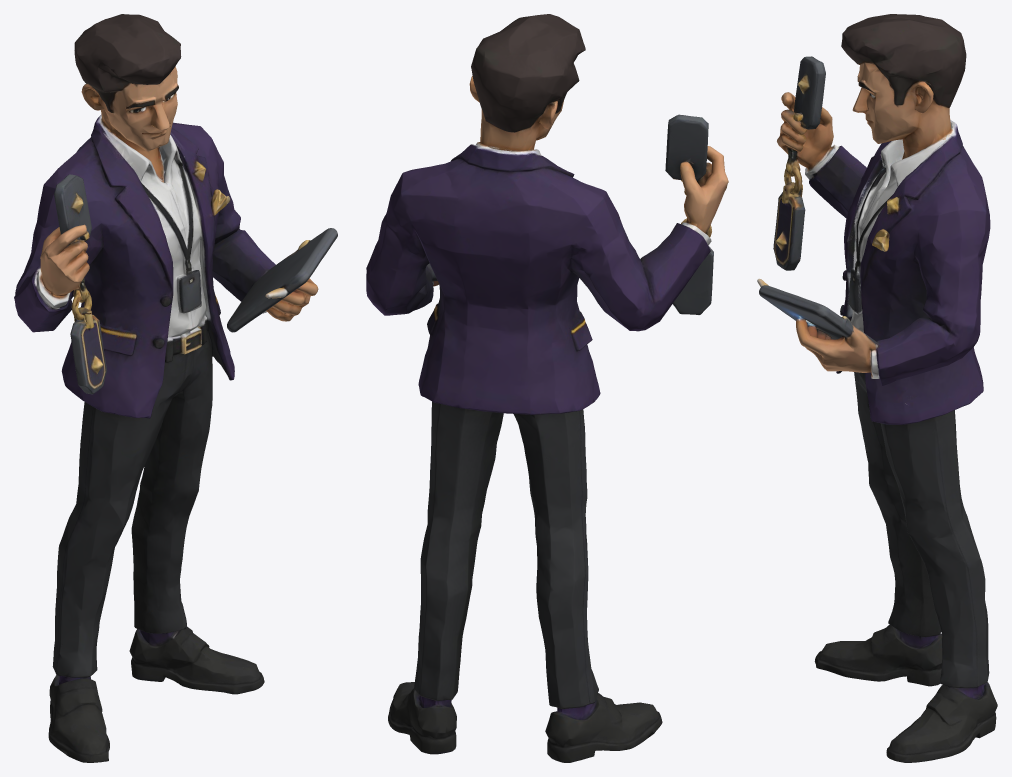
Rendered from premium_car_showroom_character_1k_real.glb.
3 views of the same model, side by side, from view 1: azimuth 30°, elevation 25°; view 2: azimuth 150°, elevation 25°; view 3: azimuth 270°, elevation 25° (orthographic). The views are drawn at different scales.
Visible parts, largest first — view 1: tripo_node_c988092d-569d-4750-ab94-eb6157a114a9; view 2: tripo_node_c988092d-569d-4750-ab94-eb6157a114a9; view 3: tripo_node_c988092d-569d-4750-ab94-eb6157a114a9.
Boxes of the visible parts, x1,y1,x2,y2 form: tripo_node_c988092d-569d-4750-ab94-eb6157a114a9: [14, 14, 337, 762]; tripo_node_c988092d-569d-4750-ab94-eb6157a114a9: [366, 14, 728, 762]; tripo_node_c988092d-569d-4750-ab94-eb6157a114a9: [757, 14, 997, 762].
Size of the model in its own units: 0.4593 by 1 by 0.3177.
Materials: 1 (1 with a texture image).
